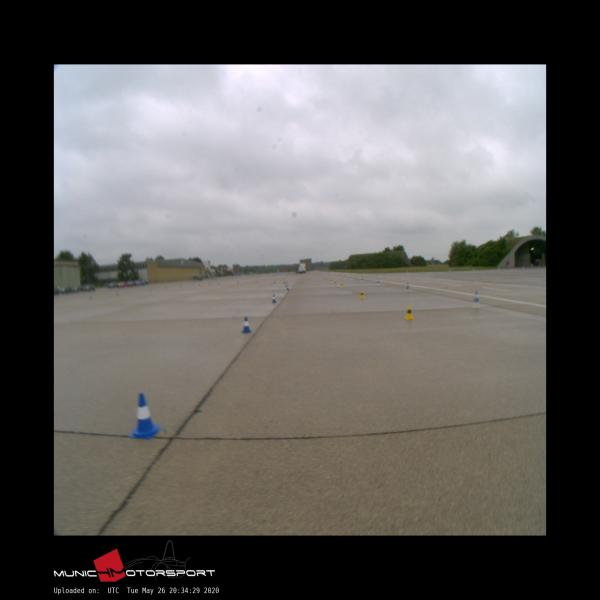blue_cone: (128, 394, 161, 438), (241, 316, 251, 331), (272, 294, 276, 302)
yellow_cone: (405, 305, 413, 320), (360, 290, 364, 298)
